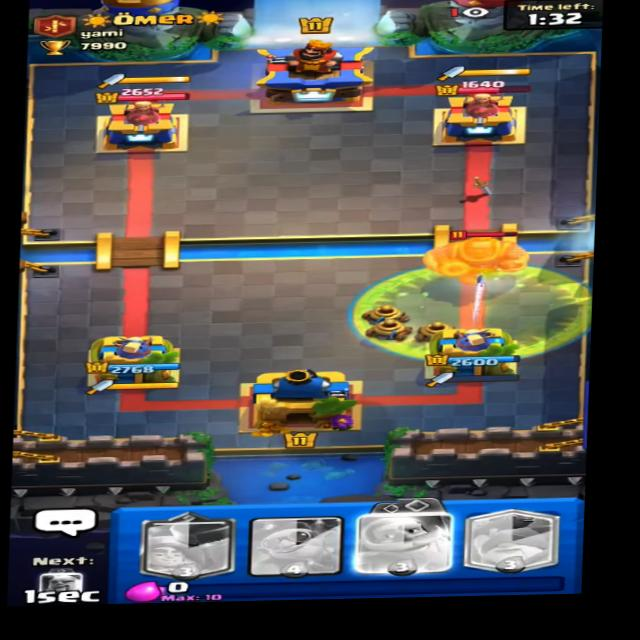royal-giant: (426, 225, 542, 283)
